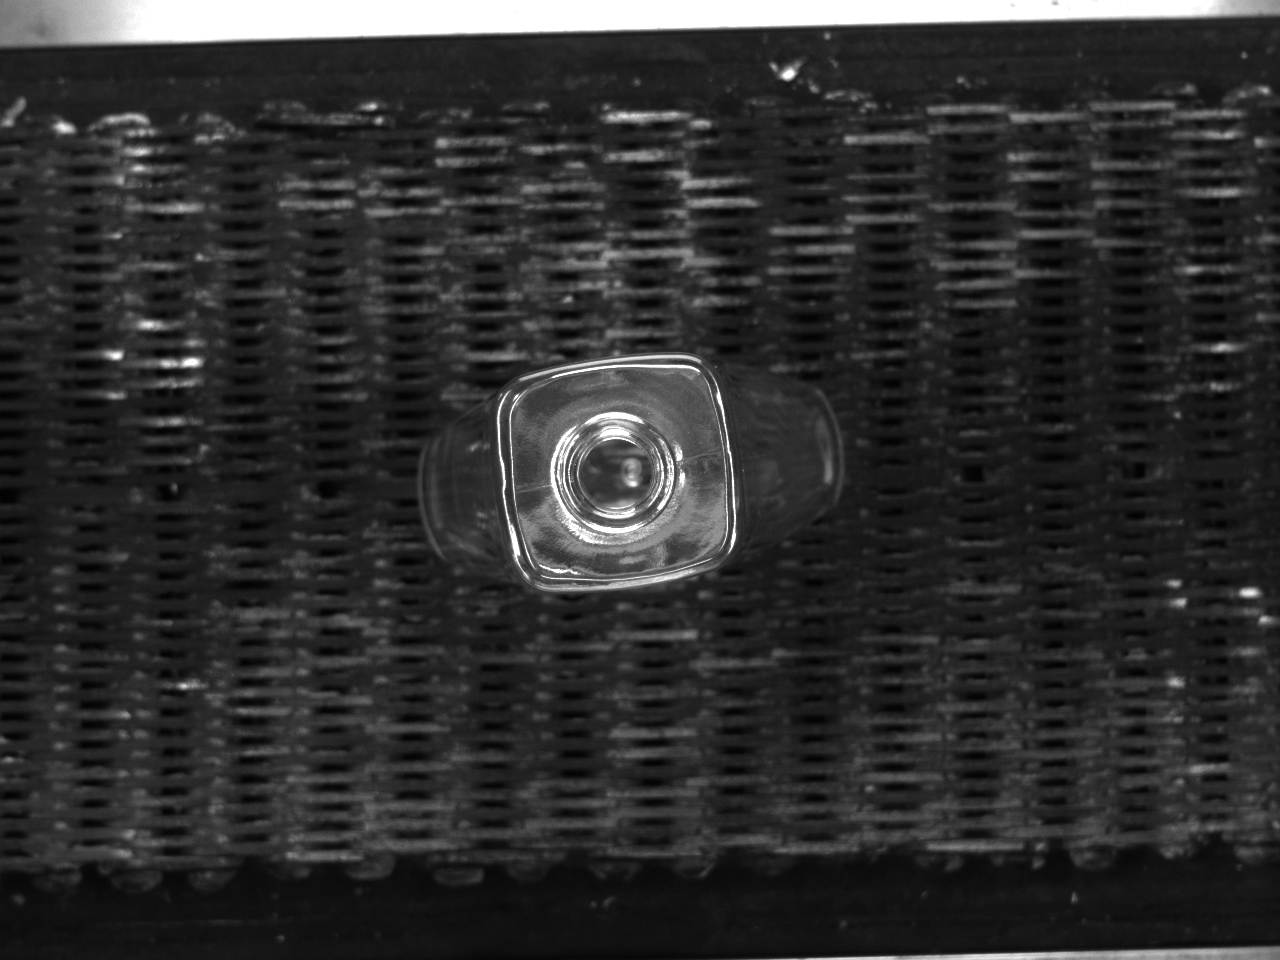bottleneck: (558, 411, 678, 531)
